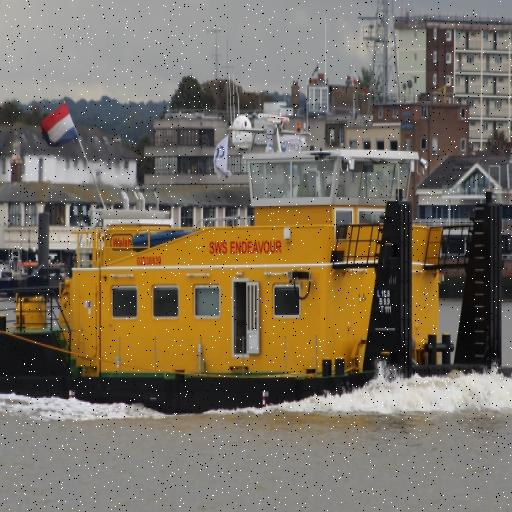tugboat: (1, 72, 512, 431)
